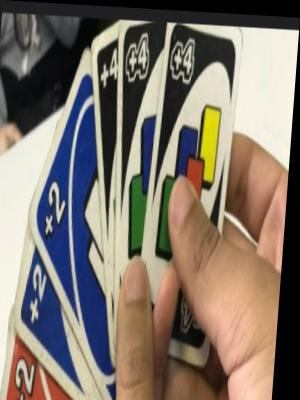-2: (77, 149, 112, 302), (41, 174, 75, 253), (29, 255, 55, 331), (17, 350, 45, 400)
wild-4: (100, 39, 120, 99)
